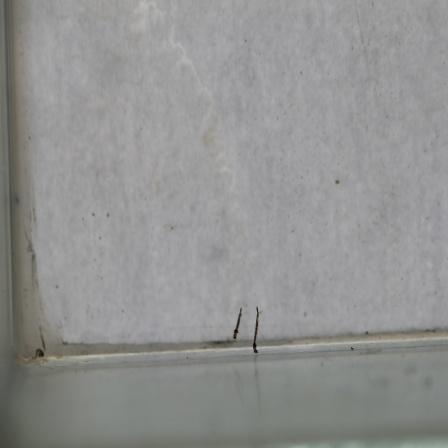Jentik-Nyamuk: (250, 301, 266, 358), (229, 305, 244, 341), (27, 346, 48, 361)
